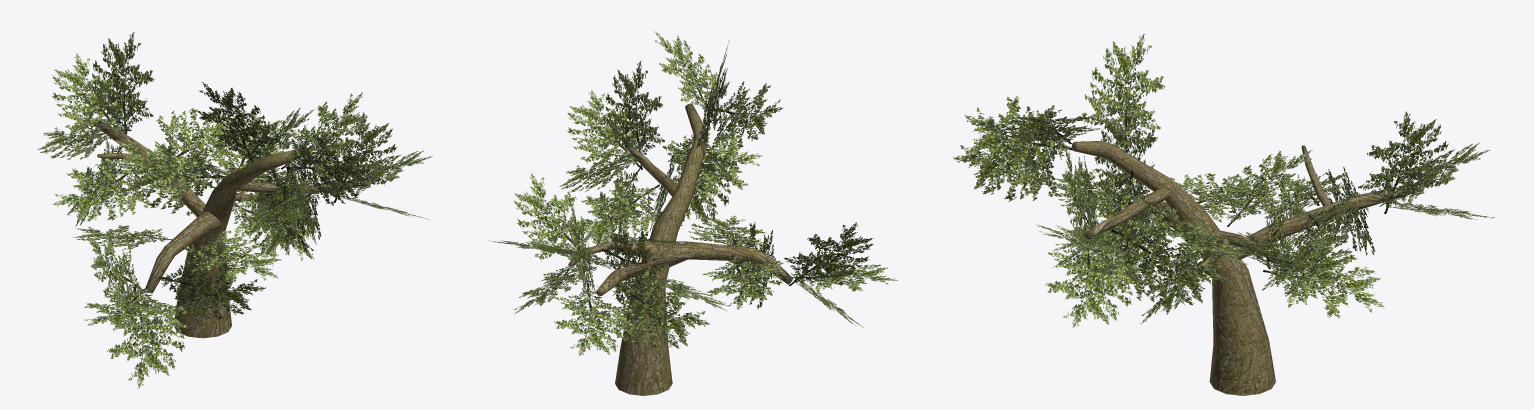
The model's file is tree_japanese.fbx.
3 views of the same model, side by side, from view 1: azimuth 30°, elevation 25°; view 2: azimuth 150°, elevation 25°; view 3: azimuth 270°, elevation 25° (orthographic). The views are drawn at different scales.
Parts seen in each view (by area): view 1: Tree_Branches, Tree_Japanese; view 2: Tree_Branches, Tree_Japanese; view 3: Tree_Branches, Tree_Japanese.
Part boxes in pixels (x1,y1,x2,y2): Tree_Branches: (37,32,432,388); Tree_Japanese: (93,119,356,338); Tree_Branches: (486,31,897,356); Tree_Japanese: (568,103,793,395); Tree_Branches: (953,33,1497,327); Tree_Japanese: (1071,141,1415,395).
Size of the model in its own units: 1108 by 879 by 1321.
